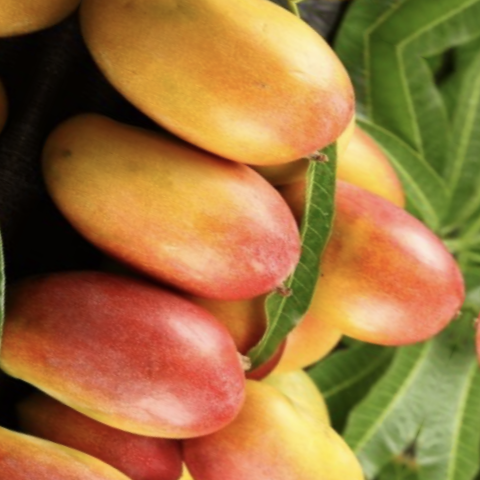mango: (3, 83, 322, 340), (0, 214, 303, 480), (49, 0, 406, 215), (234, 149, 480, 392)
